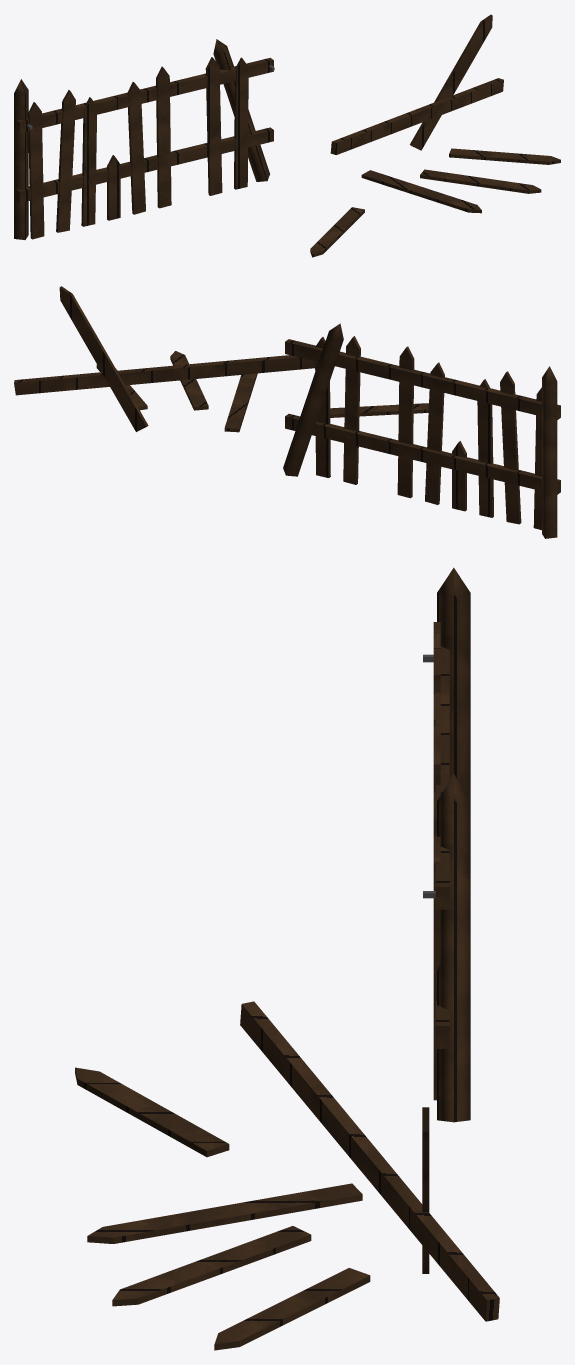
Rendered from ext_broken_fence.glb.
3 renders of one model, top to bottom at view 1: azimuth 30°, elevation 25°; view 2: azimuth 150°, elevation 25°; view 3: azimuth 270°, elevation 25°, orthographic. The views are drawn at different scales.
Visible parts, largest first — view 1: fence-col, detail; view 2: fence-col, detail; view 3: detail, fence-col.
Part boxes in pixels (bbox=[...]): fence-col: bbox=[14, 39, 273, 239]; detail: bbox=[27, 14, 560, 257]; fence-col: bbox=[283, 323, 560, 538]; detail: bbox=[14, 286, 466, 511]; detail: bbox=[75, 654, 499, 1350]; fence-col: bbox=[433, 567, 470, 1122].
Size of the model in its own units: 4.12 by 1.28 by 1.52.
2 materials, 2 textured.
